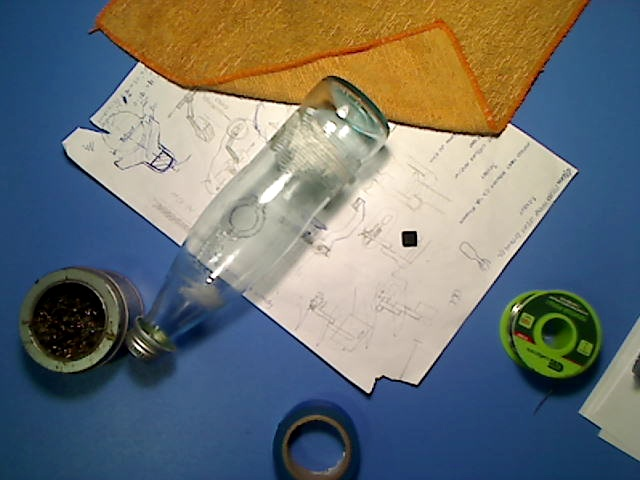bottle: (122, 74, 391, 364)
